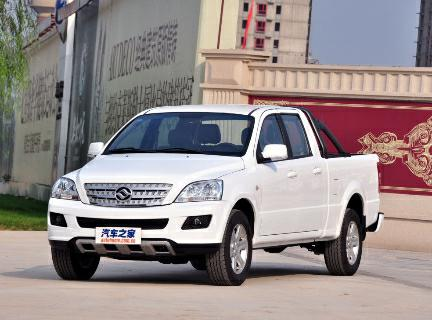黄海-大柴神: (38, 97, 391, 291)
